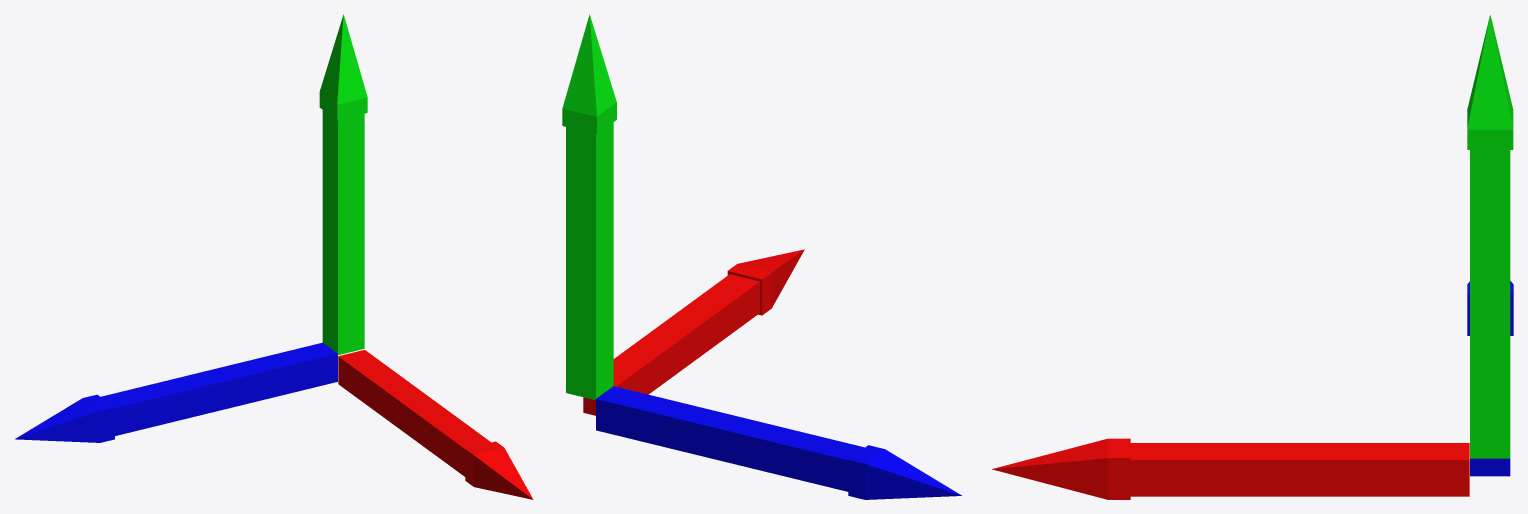
Rendered from MoveIcon.fbx.
The picture shows the model from 3 angles, left to right: view 1: azimuth 30°, elevation 25°; view 2: azimuth 150°, elevation 25°; view 3: azimuth 270°, elevation 25°; orthographic projection. The views are drawn at different scales.
Parts seen in each view (by area): view 1: Cube; view 2: Cube; view 3: Cube.
Part boxes in pixels (x1=…): Cube: x1=15, y1=14, x2=533, y2=499; Cube: x1=562, y1=14, x2=961, y2=499; Cube: x1=992, y1=15, x2=1513, y2=499.
Bounding box in the file's own units: 25.87 × 26.03 × 25.87.
Materials: 1 (1 with a texture image).
